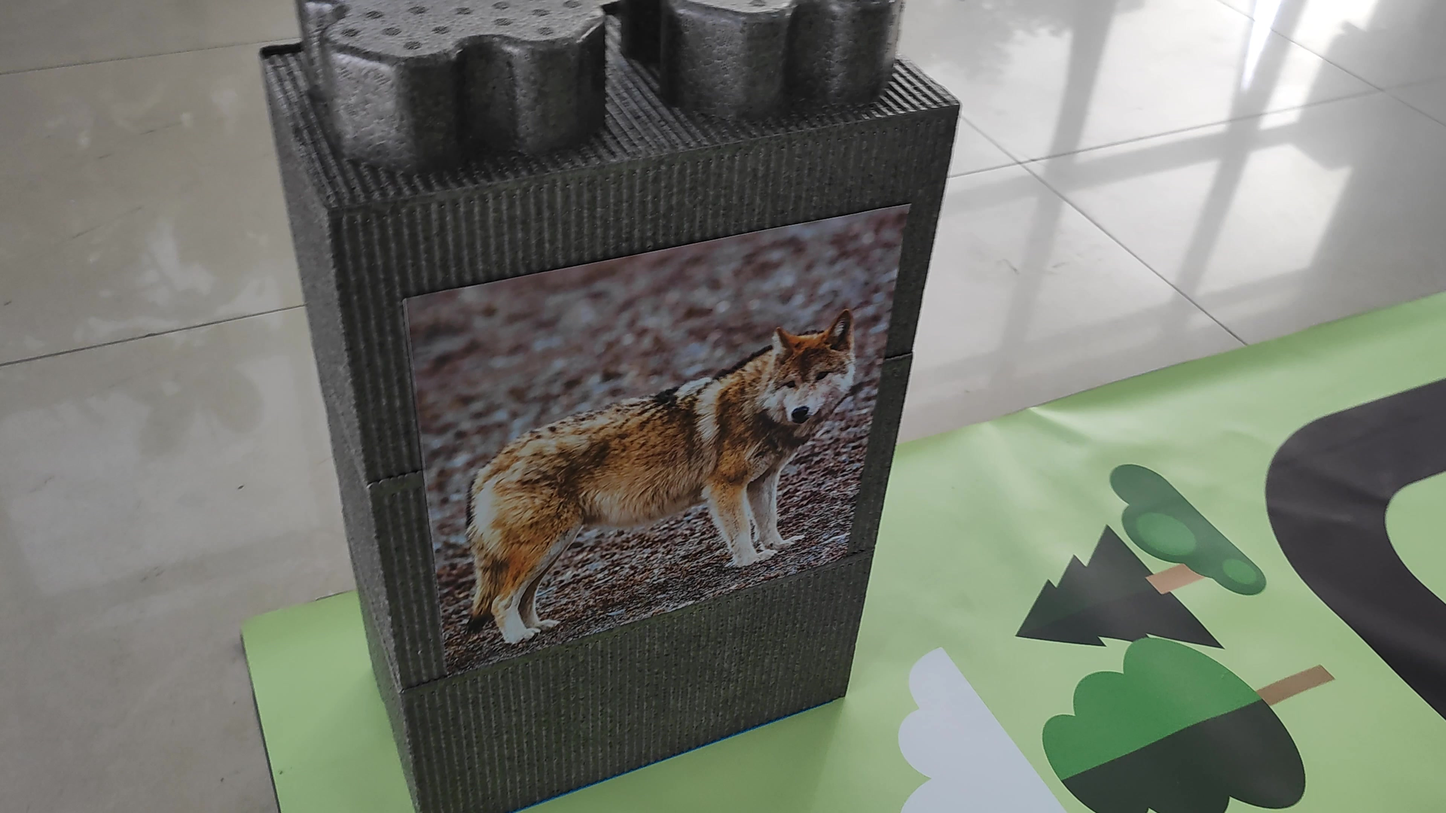wolf: (440, 297, 845, 649)
